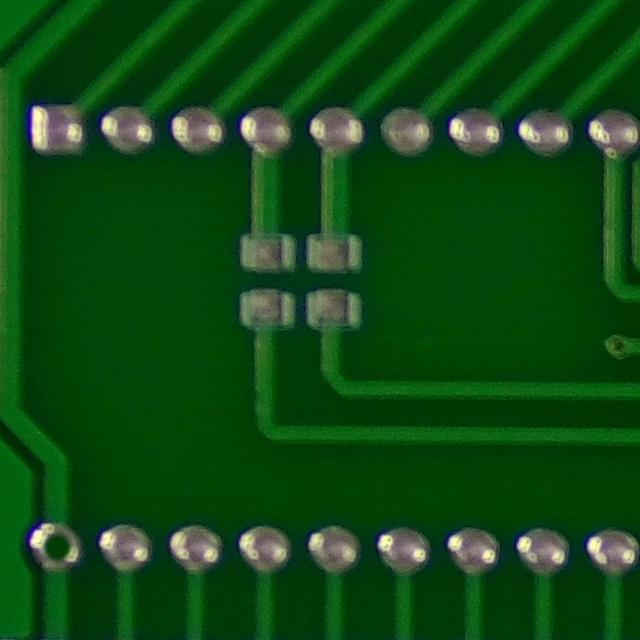missing_hole: (27, 518, 85, 578)
